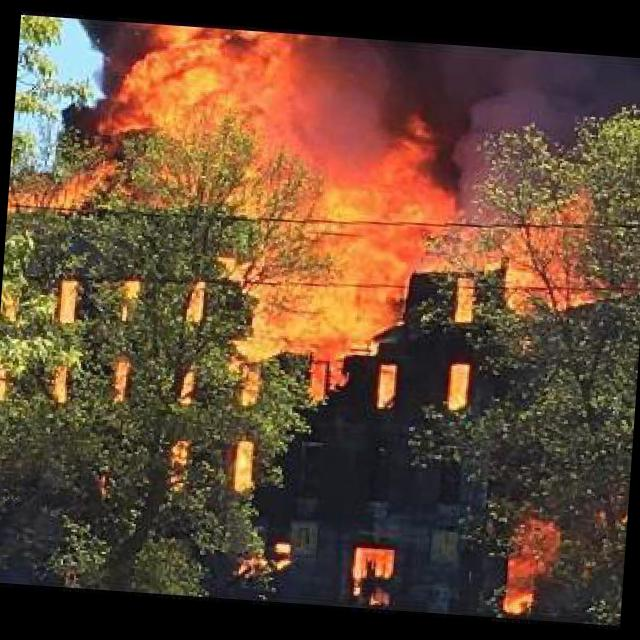Fire: (16, 29, 622, 492)
